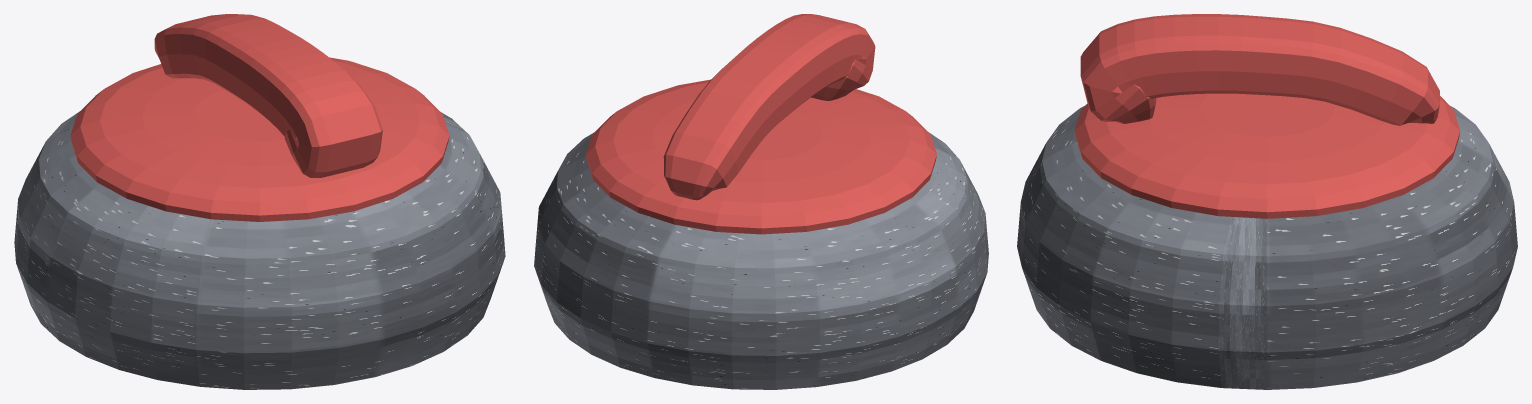
Rendered from stone_red.glb.
3 views of the same model, side by side, from view 1: azimuth 30°, elevation 25°; view 2: azimuth 150°, elevation 25°; view 3: azimuth 270°, elevation 25° (orthographic). The views are drawn at different scales.
Visible parts, largest first — view 1: stone_body, handle_cap, handle_grip; view 2: stone_body, handle_cap, handle_grip; view 3: stone_body, handle_cap, handle_grip.
Boxes of the visible parts, left/top/right/bottom form: stone_body: left=14, top=111, right=505, bottom=389; handle_cap: left=70, top=57, right=449, bottom=221; handle_grip: left=154, top=14, right=382, bottom=177; stone_body: left=534, top=132, right=988, bottom=389; handle_cap: left=586, top=79, right=936, bottom=234; handle_grip: left=663, top=14, right=875, bottom=200; stone_body: left=1017, top=106, right=1517, bottom=389; handle_cap: left=1074, top=93, right=1460, bottom=218; handle_grip: left=1080, top=14, right=1439, bottom=125.
Bounding box in the file's own units: 0.29 × 0.1751 × 0.29.
Materials: 2 (1 with a texture image).
